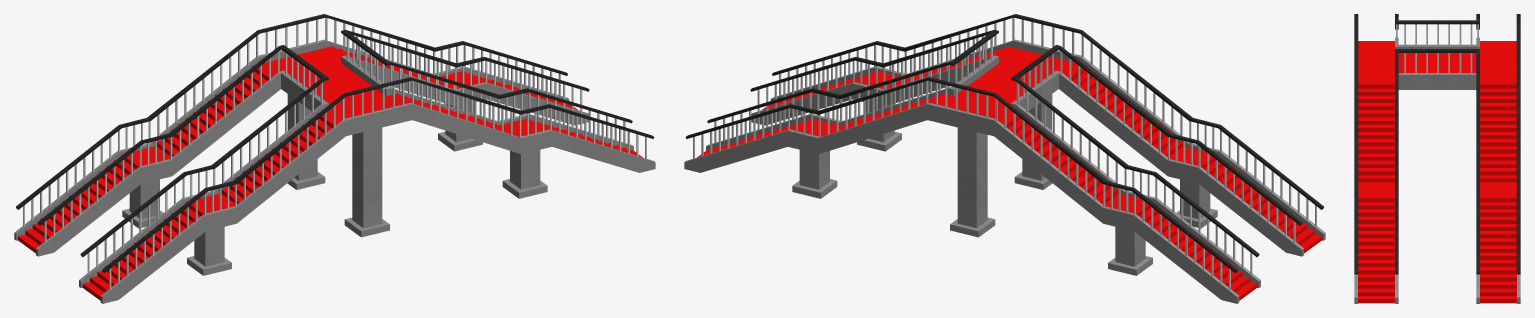
Rendered from bridge.fbx.
The picture shows the model from 3 angles, left to right: view 1: azimuth 30°, elevation 25°; view 2: azimuth 150°, elevation 25°; view 3: azimuth 270°, elevation 25°; orthographic projection. The views are drawn at different scales.
Parts seen in each view (by area): view 1: LTypeStair016, LTypeStair015, Object843; view 2: LTypeStair015, LTypeStair016, Object843; view 3: LTypeStair015, LTypeStair016, Object843.
Boxes of the visible parts, box(x1,y1,x2,y2) form: LTypeStair016: box(79, 61, 655, 303); LTypeStair015: box(14, 14, 589, 256); Object843: box(281, 31, 388, 110); LTypeStair015: box(684, 61, 1260, 303); LTypeStair016: box(750, 14, 1325, 256); Object843: box(951, 31, 1058, 110); LTypeStair015: box(1476, 14, 1520, 303); LTypeStair016: box(1354, 14, 1398, 303); Object843: box(1398, 20, 1476, 89).
Bounding box in the file's own units: 2444 × 633 × 675.
